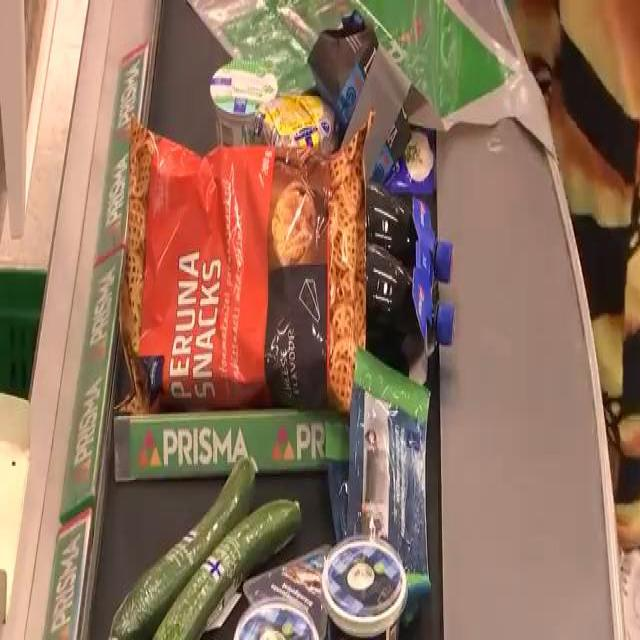beverage: (361, 181, 457, 367), (330, 22, 410, 180)
food-box: (118, 137, 374, 432), (324, 533, 404, 640), (235, 588, 330, 640)
utility-box: (352, 348, 435, 620), (218, 65, 272, 138), (261, 107, 333, 158)
vegetable: (111, 460, 308, 640)
